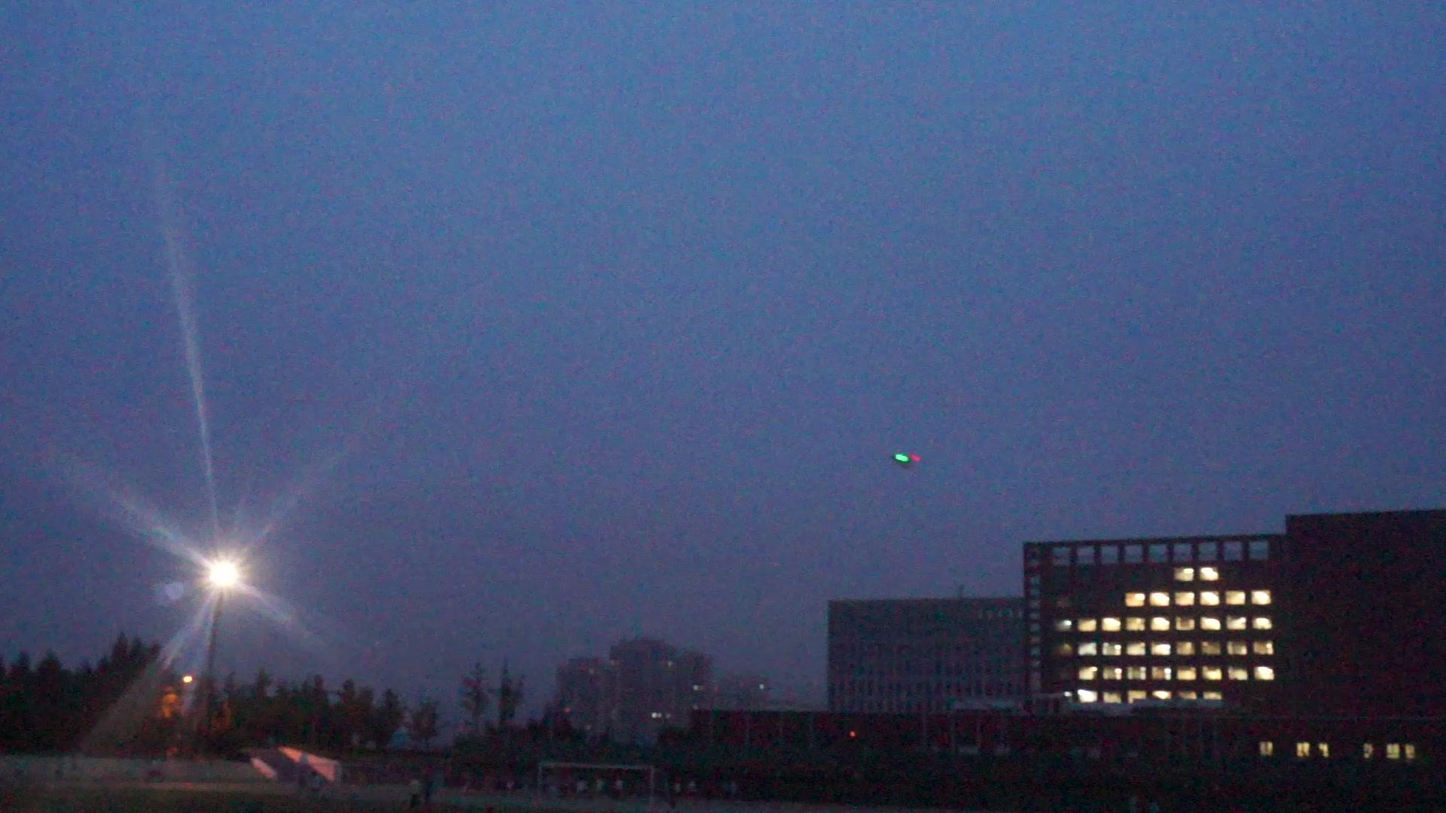UAV: (892, 453, 923, 467)
